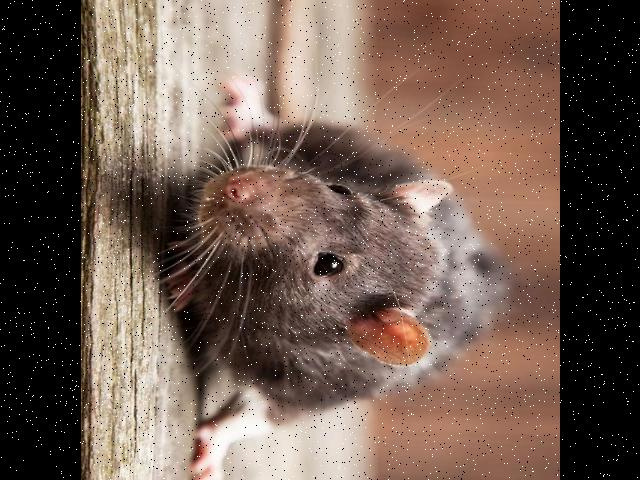Tikus: (171, 0, 513, 480)
